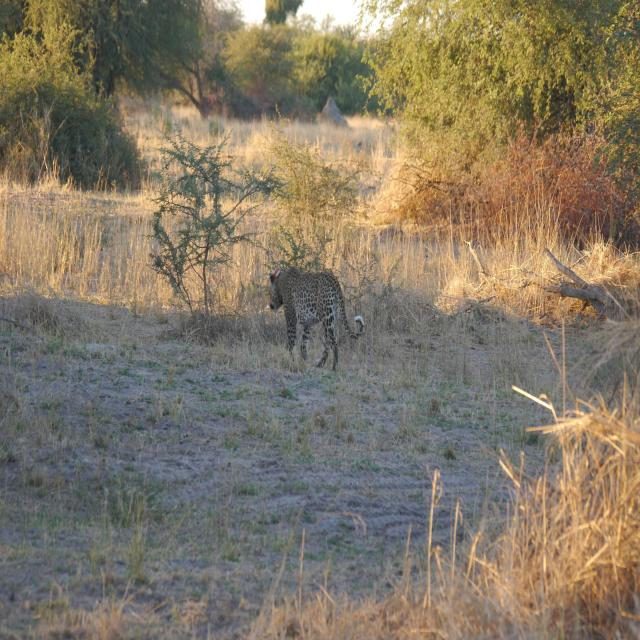Leopard: (270, 266, 360, 382)
